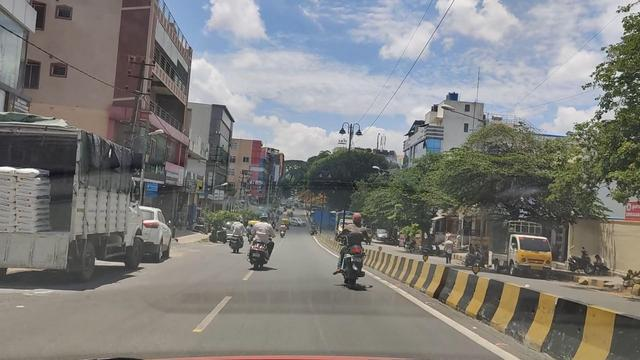HMV: (3, 120, 147, 285)
LMV: (328, 203, 372, 294), (235, 214, 279, 271)
